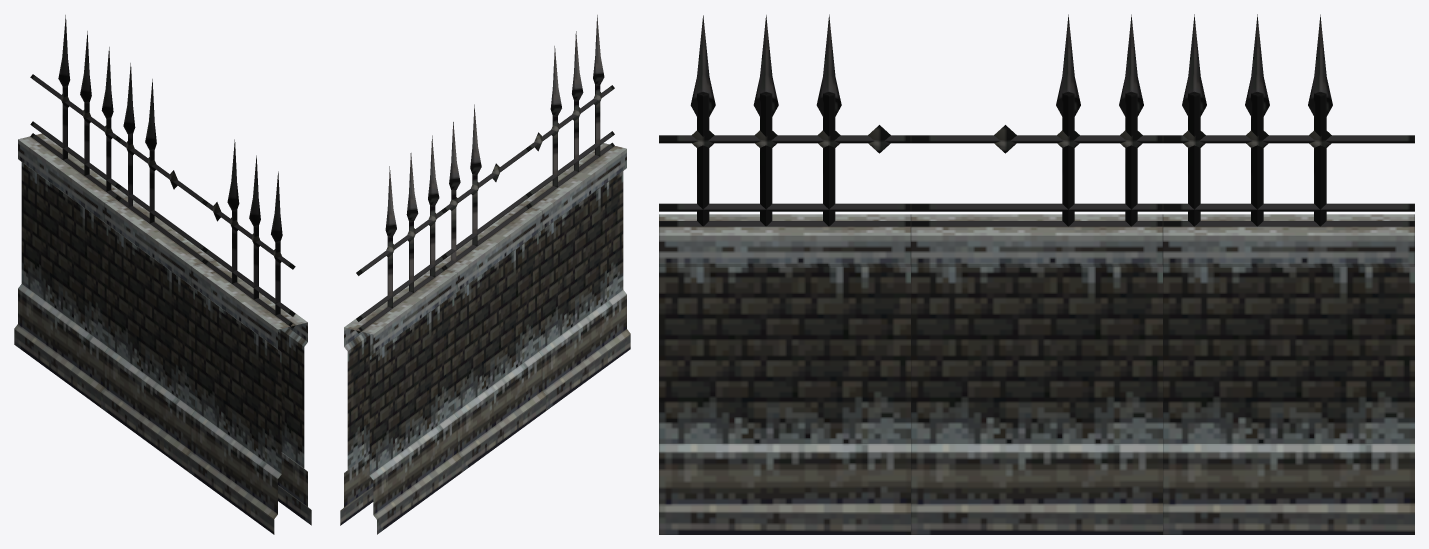
Rendered from EnvBdgMD_Snow_Seidoukikan_A_Outdoor_Fence_B.FBX.
3 renders of one model, left to right at view 1: azimuth 30°, elevation 25°; view 2: azimuth 150°, elevation 25°; view 3: azimuth 270°, elevation 25°, orthographic. The views are drawn at different scales.
Parts seen in each view (by area): view 1: EnvBdgMD_Snow_Seidoukikan_A_Outdoor_Fence_B; view 2: EnvBdgMD_Snow_Seidoukikan_A_Outdoor_Fence_B; view 3: EnvBdgMD_Snow_Seidoukikan_A_Outdoor_Fence_B.
Part boxes in pixels (x1,y1,x2,y2): EnvBdgMD_Snow_Seidoukikan_A_Outdoor_Fence_B: [14, 15, 311, 534]; EnvBdgMD_Snow_Seidoukikan_A_Outdoor_Fence_B: [340, 15, 630, 534]; EnvBdgMD_Snow_Seidoukikan_A_Outdoor_Fence_B: [659, 14, 1414, 534].
Size of the model in its own units: 50 by 445 by 600.
1 material, 1 textured.
